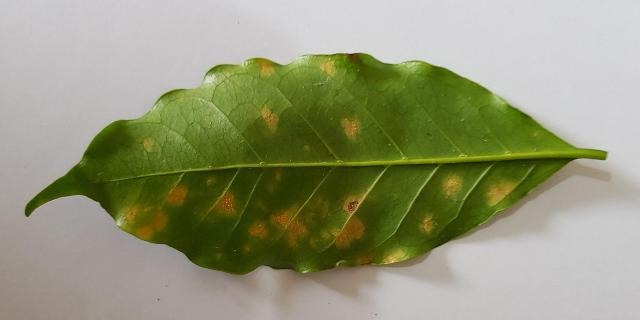miner: (271, 197, 328, 246), (331, 192, 368, 246), (135, 210, 170, 243), (487, 182, 514, 204), (125, 205, 155, 221), (214, 192, 235, 213), (165, 184, 186, 204), (260, 108, 278, 130), (341, 118, 360, 138), (442, 177, 461, 196), (382, 249, 405, 264), (268, 171, 281, 192), (257, 58, 273, 74), (420, 214, 433, 233), (250, 222, 267, 236), (357, 254, 372, 266), (142, 138, 154, 150), (321, 61, 333, 73), (203, 178, 215, 186)
